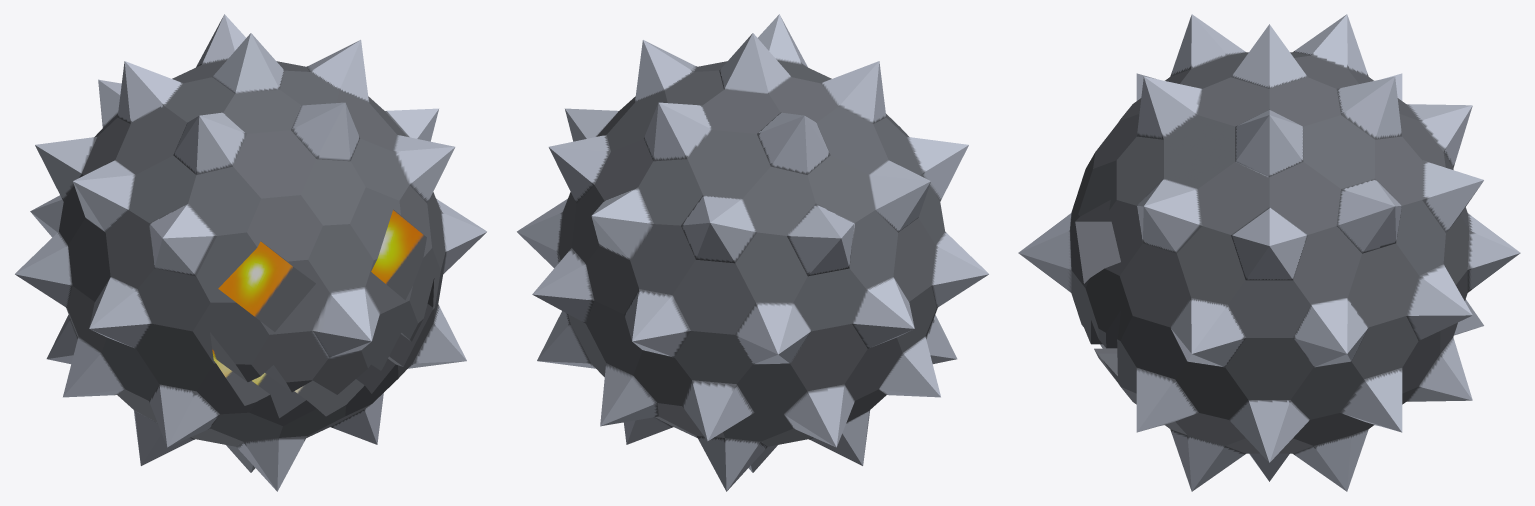
File: DeathBall.fbx
3 views of the same model, side by side, from view 1: azimuth 30°, elevation 25°; view 2: azimuth 150°, elevation 25°; view 3: azimuth 270°, elevation 25° (orthographic). The views are drawn at different scales.
Parts seen in each view (by area): view 1: Body; view 2: Body; view 3: Body.
Boxes of the visible parts, <box> form: Body: <box>15,14,486,491</box>; Body: <box>517,14,988,491</box>; Body: <box>1018,14,1520,491</box>.
Bounding box in the file's own units: 554 × 585 × 582.
1 material, 1 textured.
